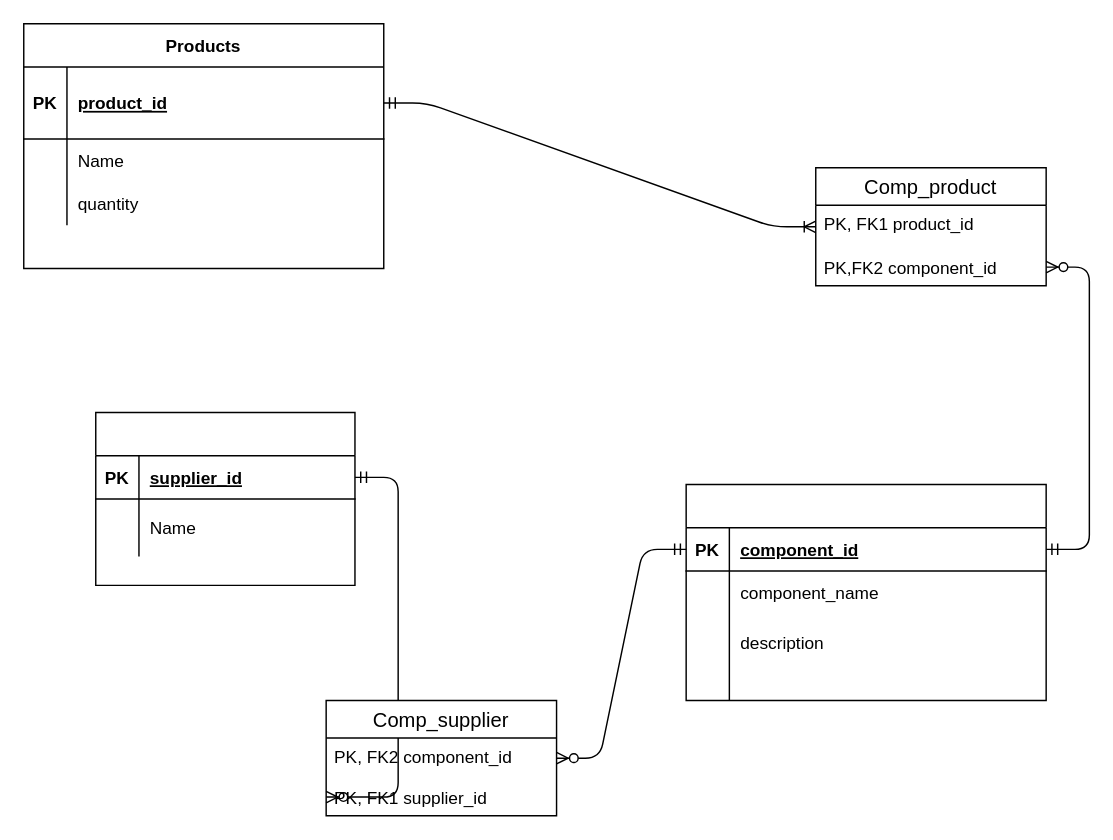
Image size: 1113x840. Some labels were removed from this diagram. Here are the shapes that lost their labels. From the top down, the box of each, then its label:
(94, 411, 355, 585): Suppliers
(685, 483, 1046, 701): Components
